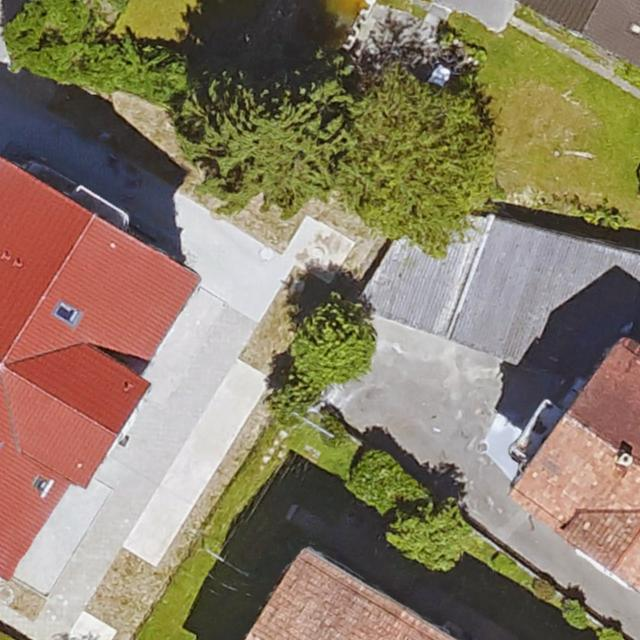tree: (342, 68, 494, 239), (185, 69, 353, 205), (293, 299, 374, 385), (389, 501, 468, 573), (269, 378, 313, 424)
